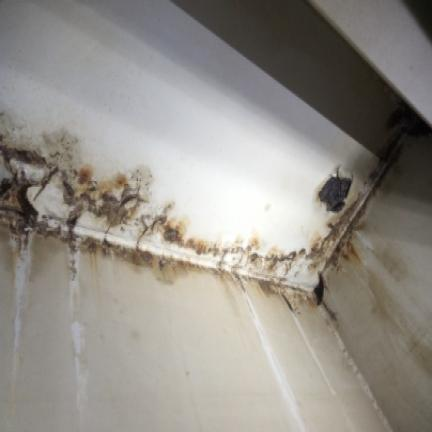besi_tidak_karat: (0, 0, 373, 250)
karat: (0, 131, 360, 294), (319, 174, 351, 210), (313, 275, 322, 304)
